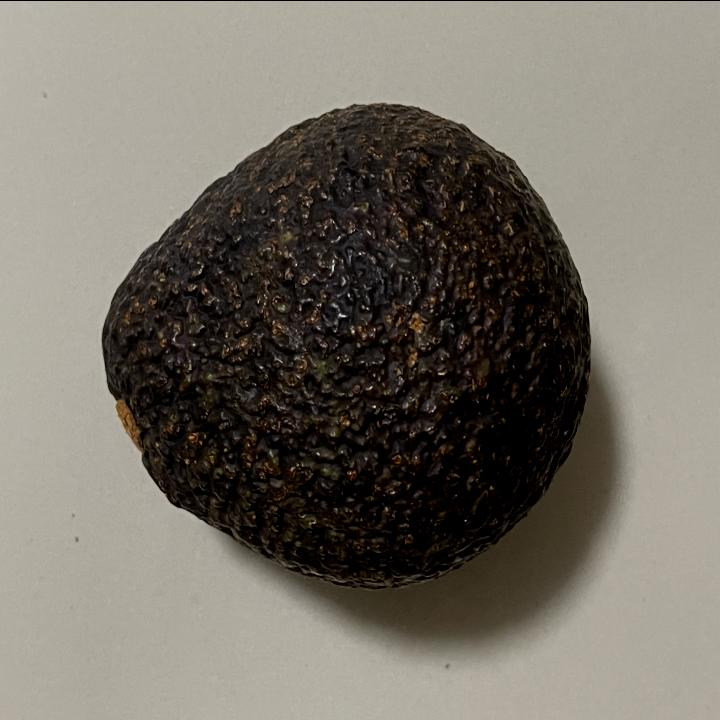Level2: (93, 93, 597, 599)
